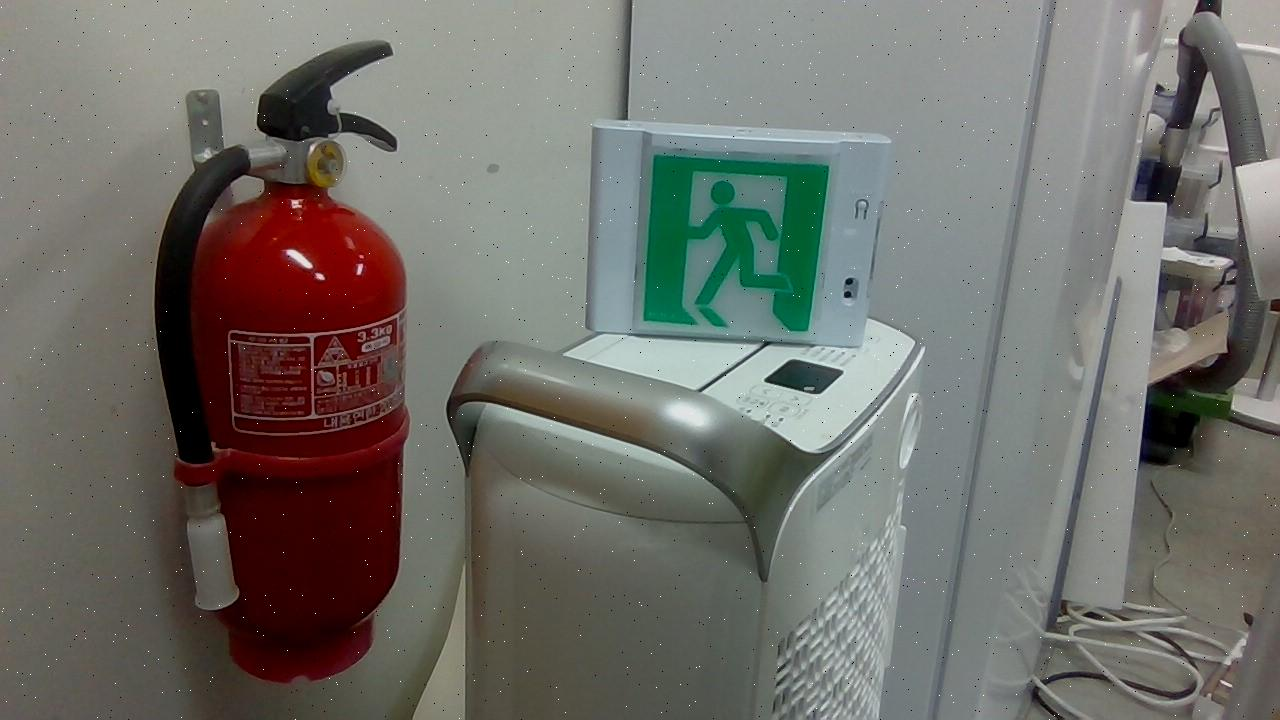emergency_exit: (584, 117, 892, 349)
